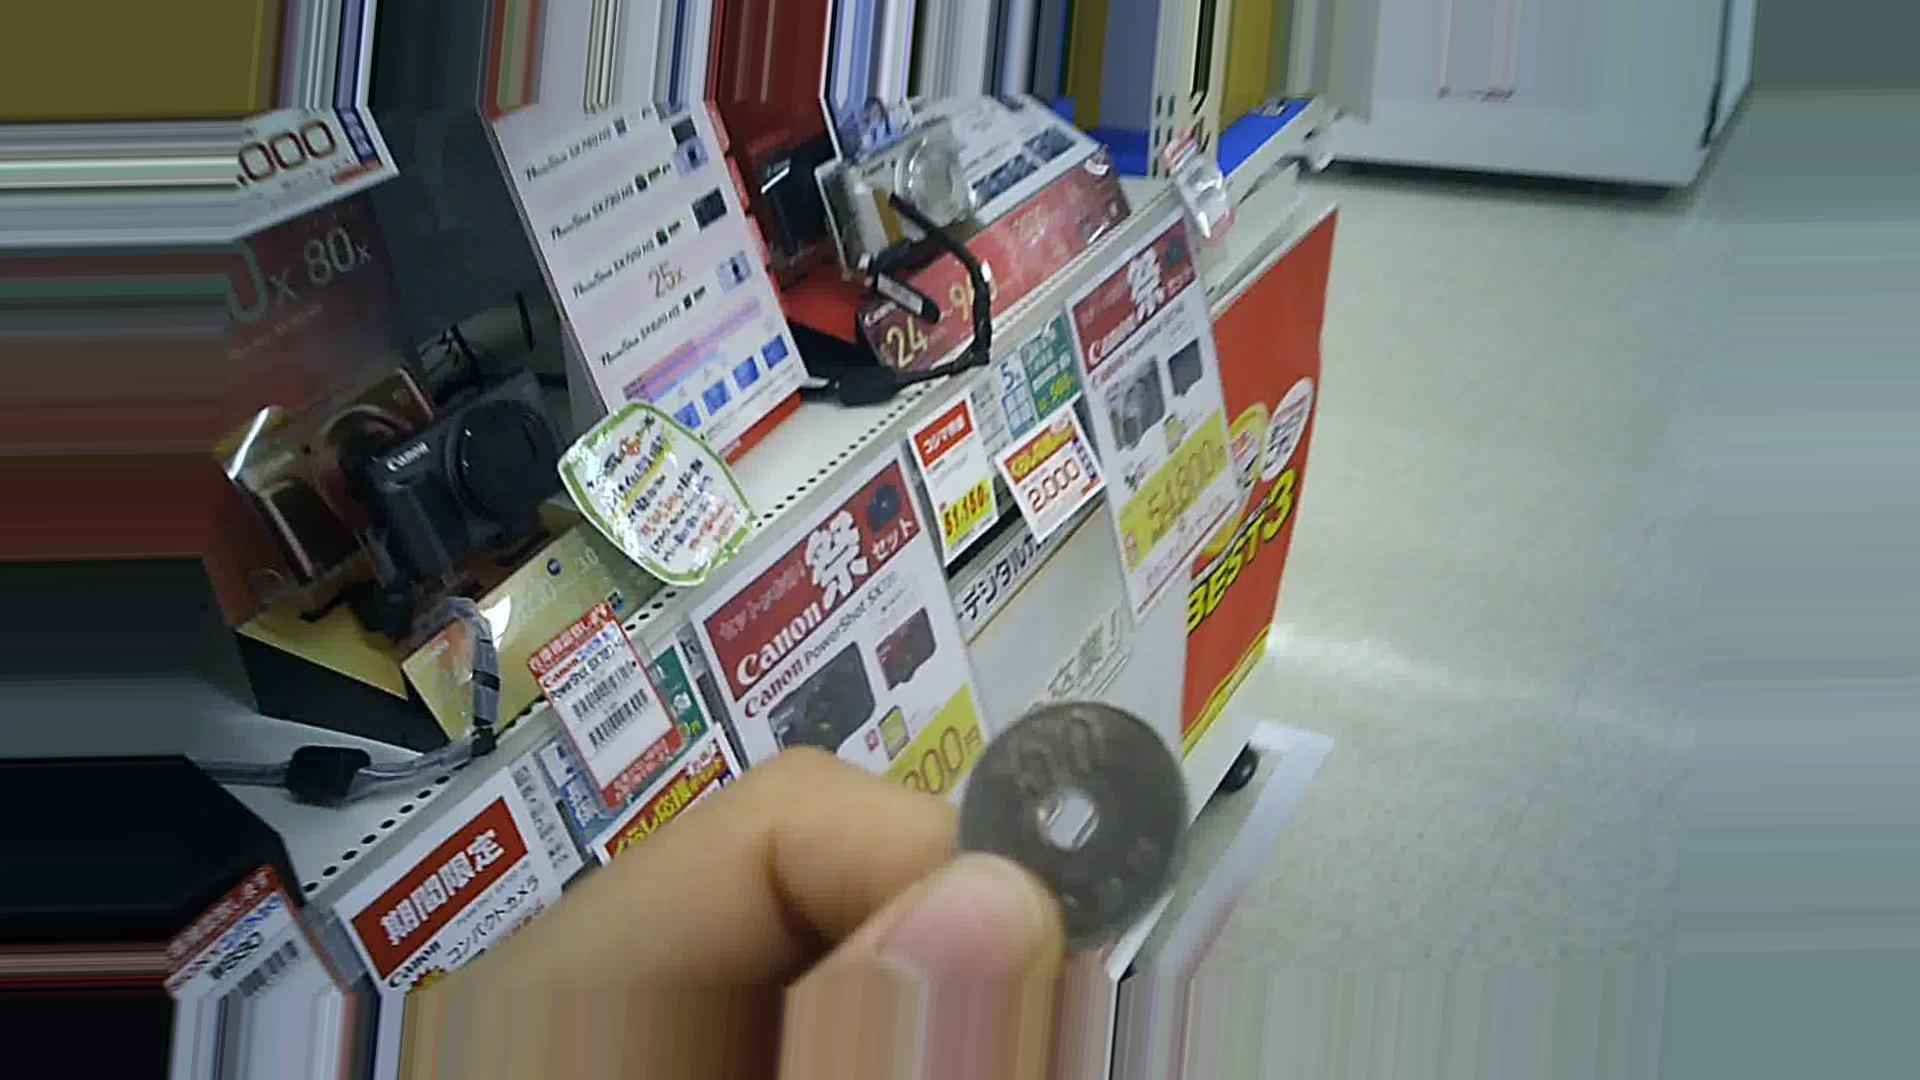50 Yen: (965, 700, 1197, 947)
